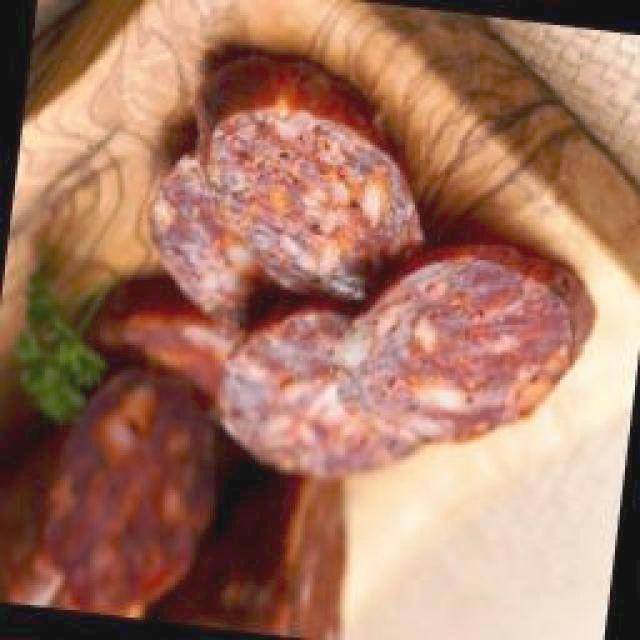chinese_sausage: (94, 48, 595, 482)
